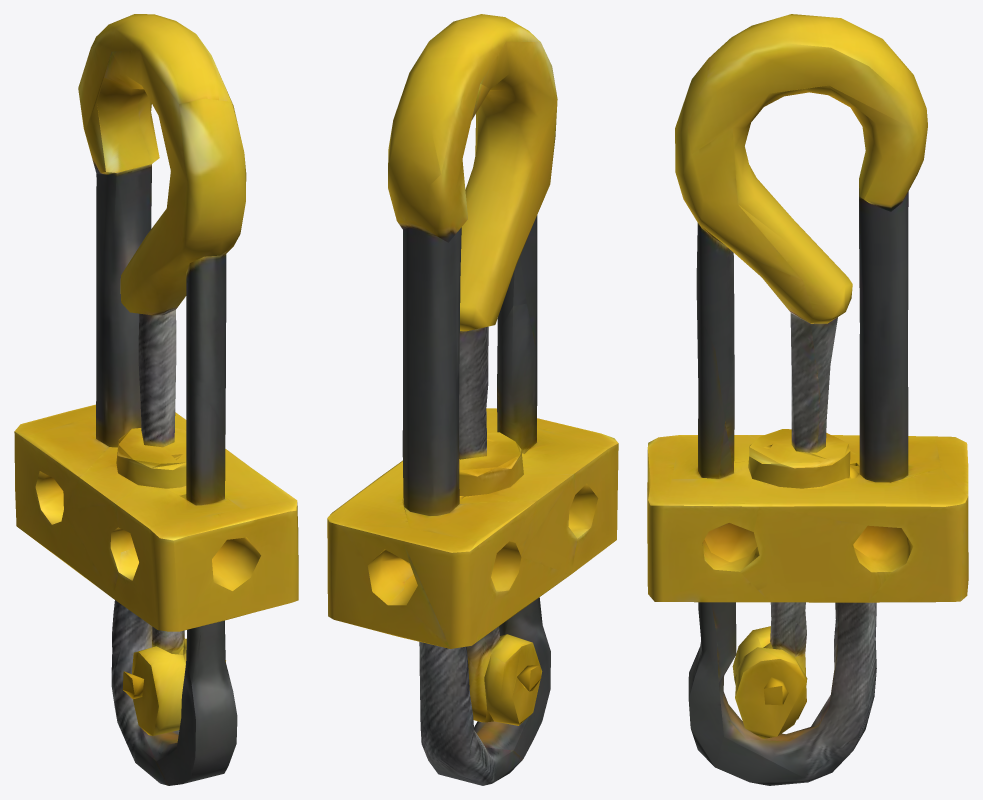
Rendered from craneHook.glb.
The picture shows the model from 3 angles, left to right: view 1: azimuth 30°, elevation 25°; view 2: azimuth 150°, elevation 25°; view 3: azimuth 270°, elevation 25°; orthographic projection. The views are drawn at different scales.
Visible parts, largest first — view 1: model; view 2: model; view 3: model.
Part boxes in pixels (x1=…): model: x1=14, y1=14, x2=298, y2=785; model: x1=327, y1=14, x2=618, y2=785; model: x1=647, y1=14, x2=968, y2=785.
Bounding box in the file's own units: 0.3769 × 1.89 × 0.7287.
1 material, 1 textured.
